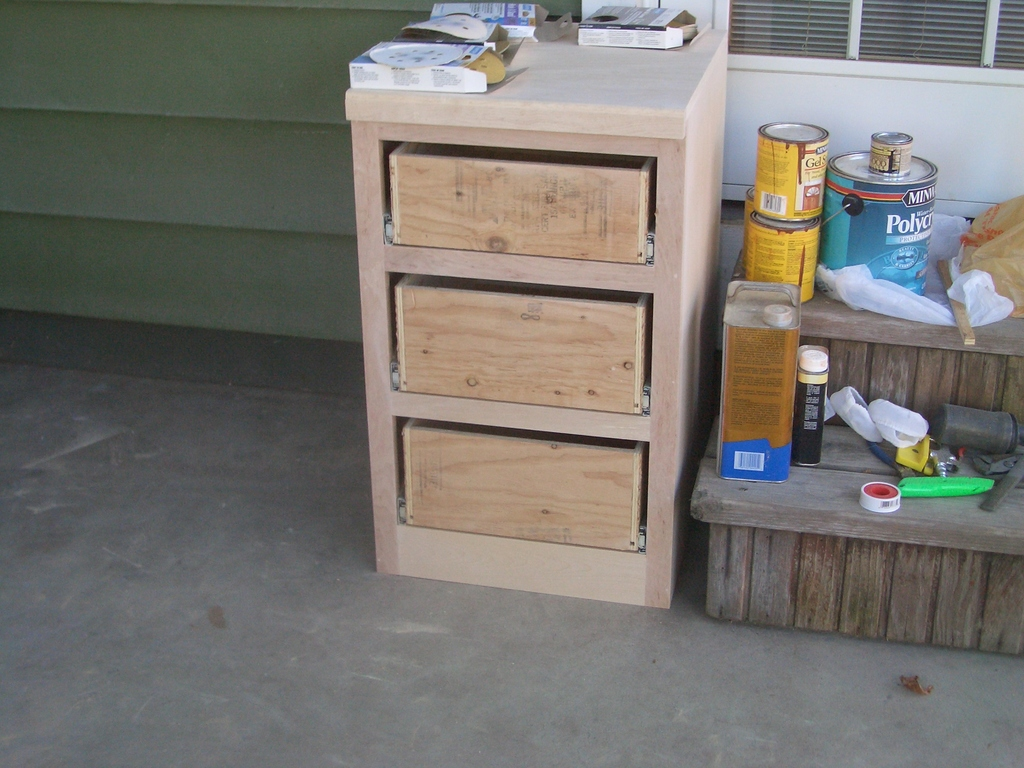cabinet door: (390, 425, 657, 549), (390, 282, 651, 403), (386, 154, 662, 258)
